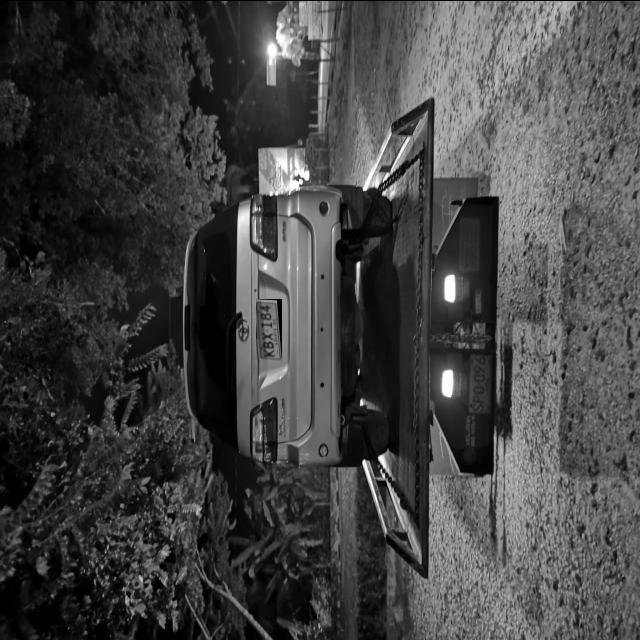plate: (256, 298, 282, 361)
